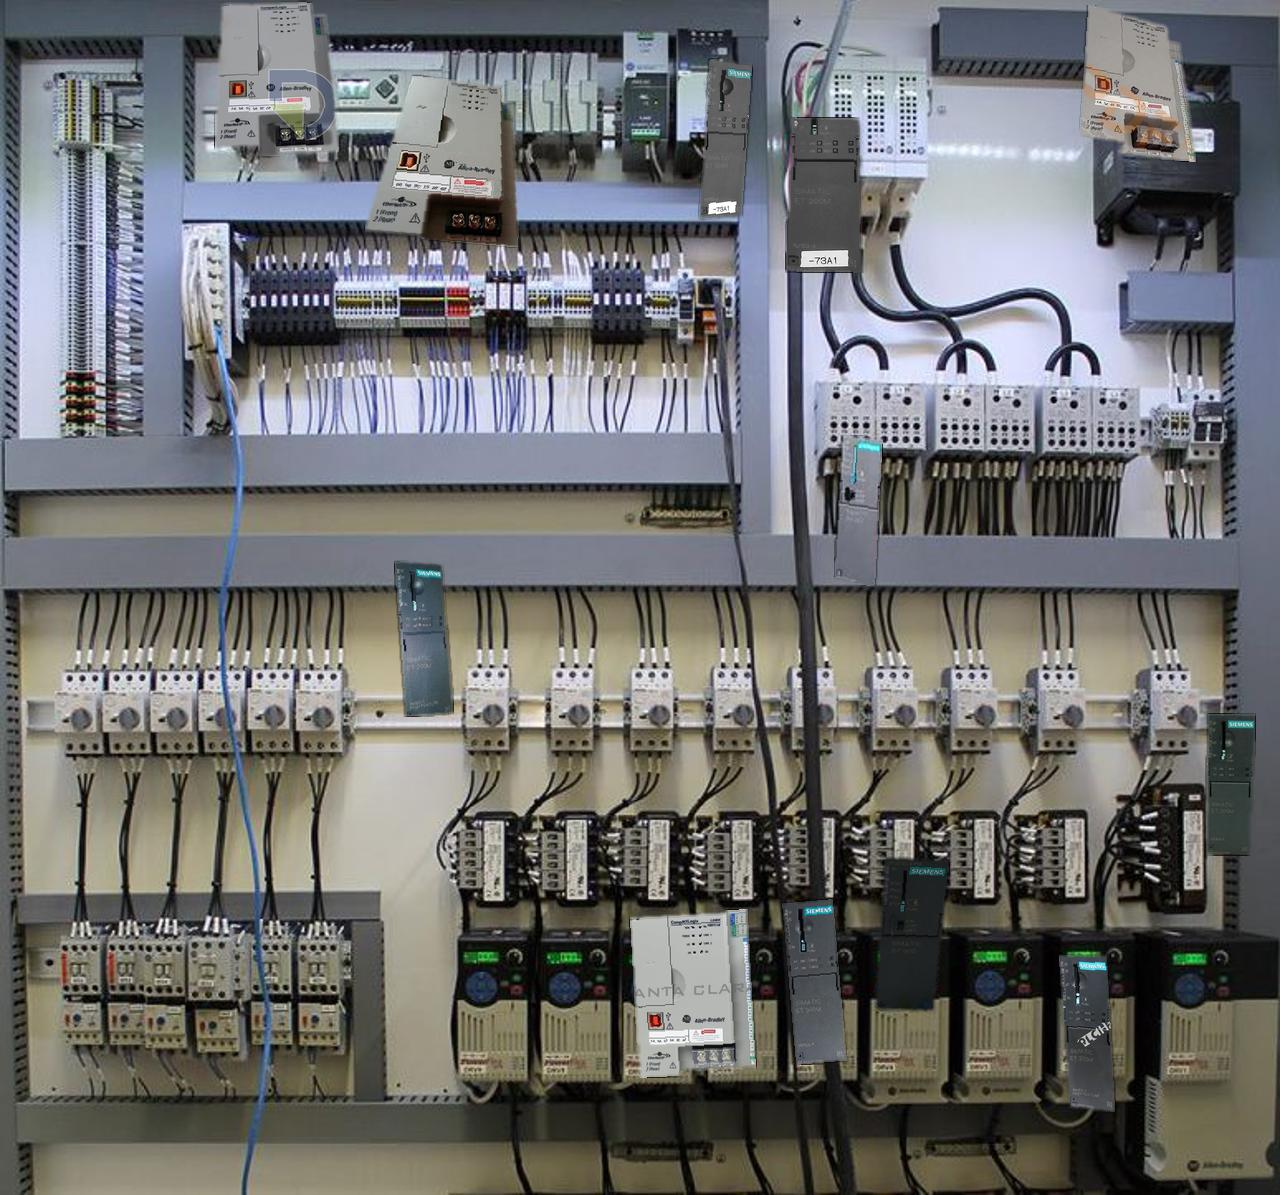AllenBradley: (365, 76, 518, 245), (630, 909, 755, 1077), (214, 2, 338, 155), (1081, 4, 1195, 161)
Siemens: (875, 858, 949, 1010), (835, 435, 883, 585)
